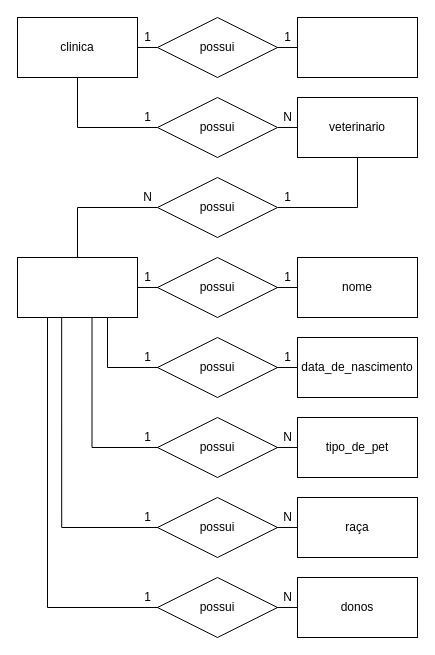
The diagram is 435 pixels wide and 655 high, and some of its shapes have lost their labels. The shapes that lost their labels are listed below. From the top down, each one's box as (x1, y1, x2, y2) in pixels, then its label:
(296, 16, 418, 78): endereço
(16, 256, 138, 318): pet
